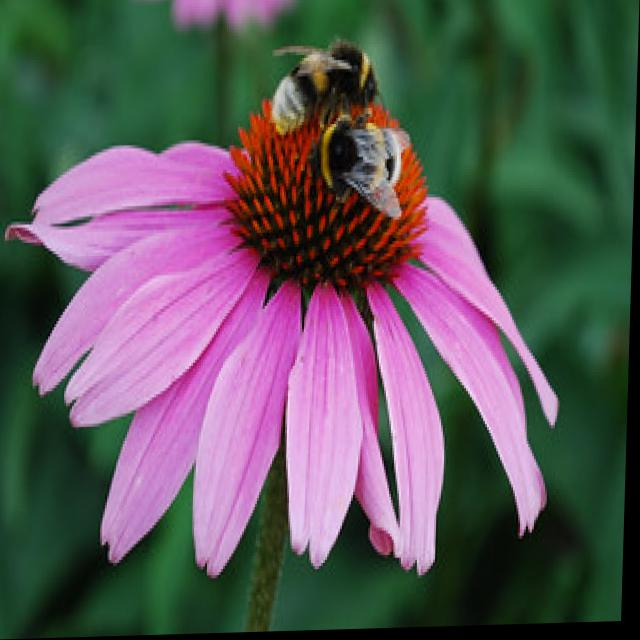Abeille: (301, 96, 424, 220), (264, 24, 390, 136)
